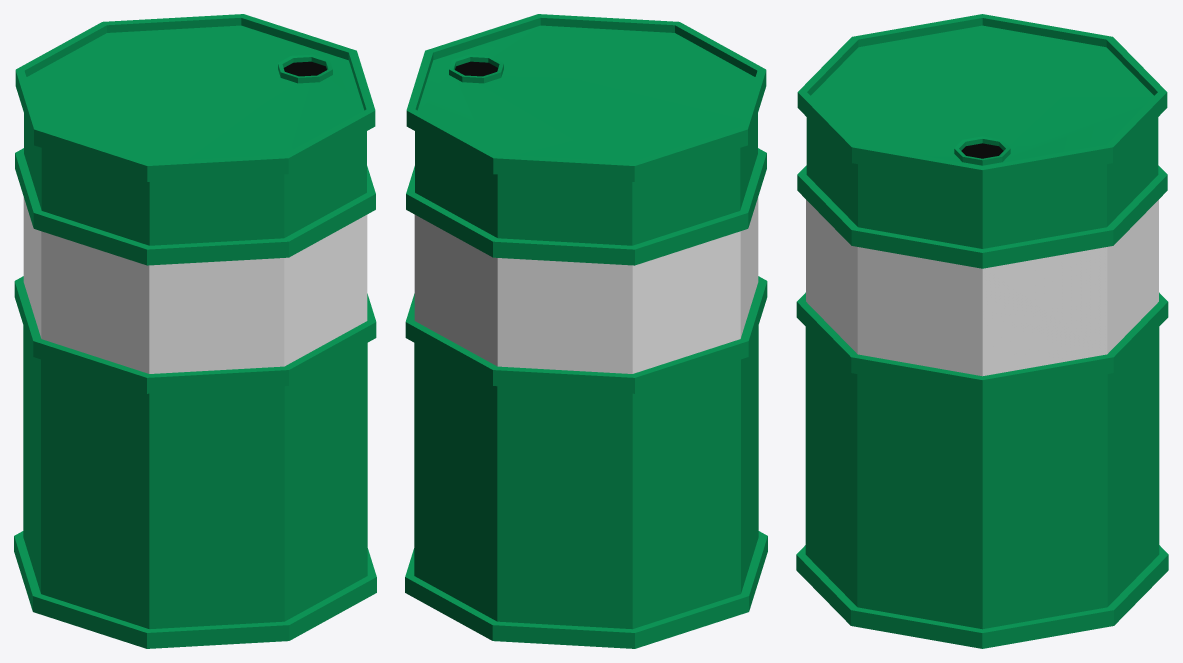
File: GreenBarrelF.fbx
3 renders of one model, left to right at view 1: azimuth 30°, elevation 25°; view 2: azimuth 150°, elevation 25°; view 3: azimuth 270°, elevation 25°, orthographic.
Visible parts, largest first — view 1: GreenBarrel; view 2: GreenBarrel; view 3: GreenBarrel.
Boxes of the visible parts, <box> form: GreenBarrel: <box>14,14,376,648</box>; GreenBarrel: <box>405,14,767,648</box>; GreenBarrel: <box>796,14,1168,648</box>.
Size of the model in its own units: 400 by 567 by 400.
